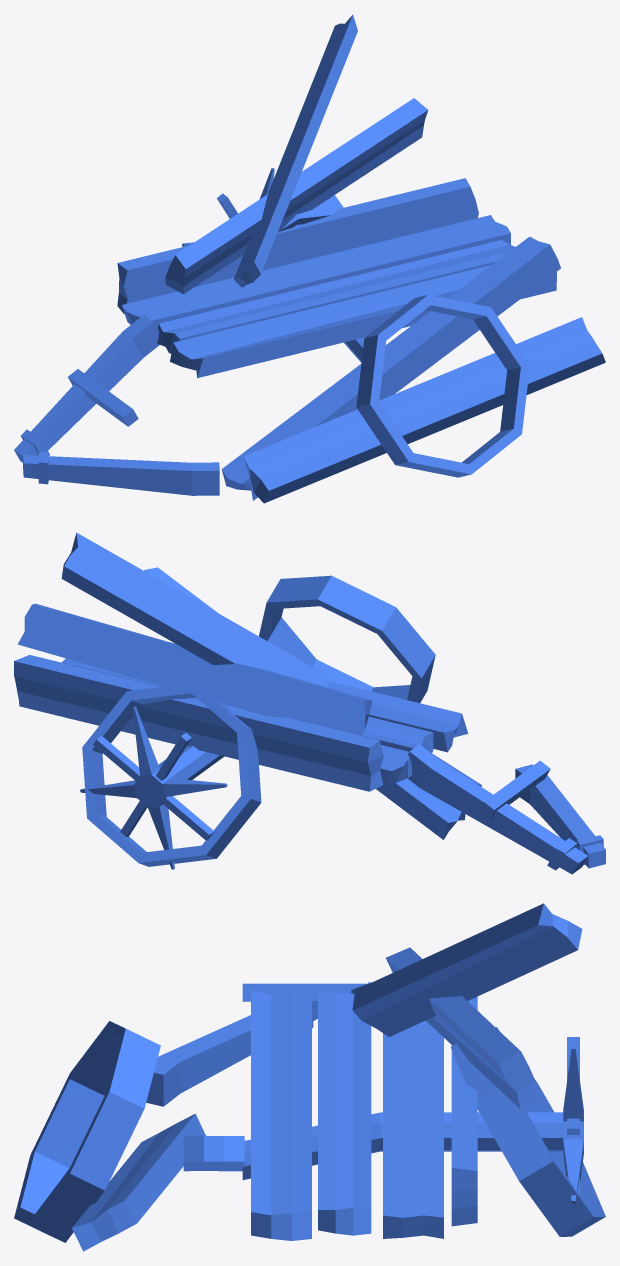
Rendered from Wooden_Cart_Variant3.fbx.
The picture shows the model from 3 angles, top to bottom: view 1: azimuth 30°, elevation 25°; view 2: azimuth 150°, elevation 25°; view 3: azimuth 270°, elevation 25°; orthographic projection. The views are drawn at different scales.
Visible parts, largest first — view 1: Wooden_Cart_Variant3; view 2: Wooden_Cart_Variant3; view 3: Wooden_Cart_Variant3.
Boxes of the visible parts, x1,y1,x2,y2 form: Wooden_Cart_Variant3: (14, 15, 605, 503); Wooden_Cart_Variant3: (14, 532, 605, 874); Wooden_Cart_Variant3: (14, 903, 605, 1251).
Size of the model in its own units: 271 by 162 by 207.
